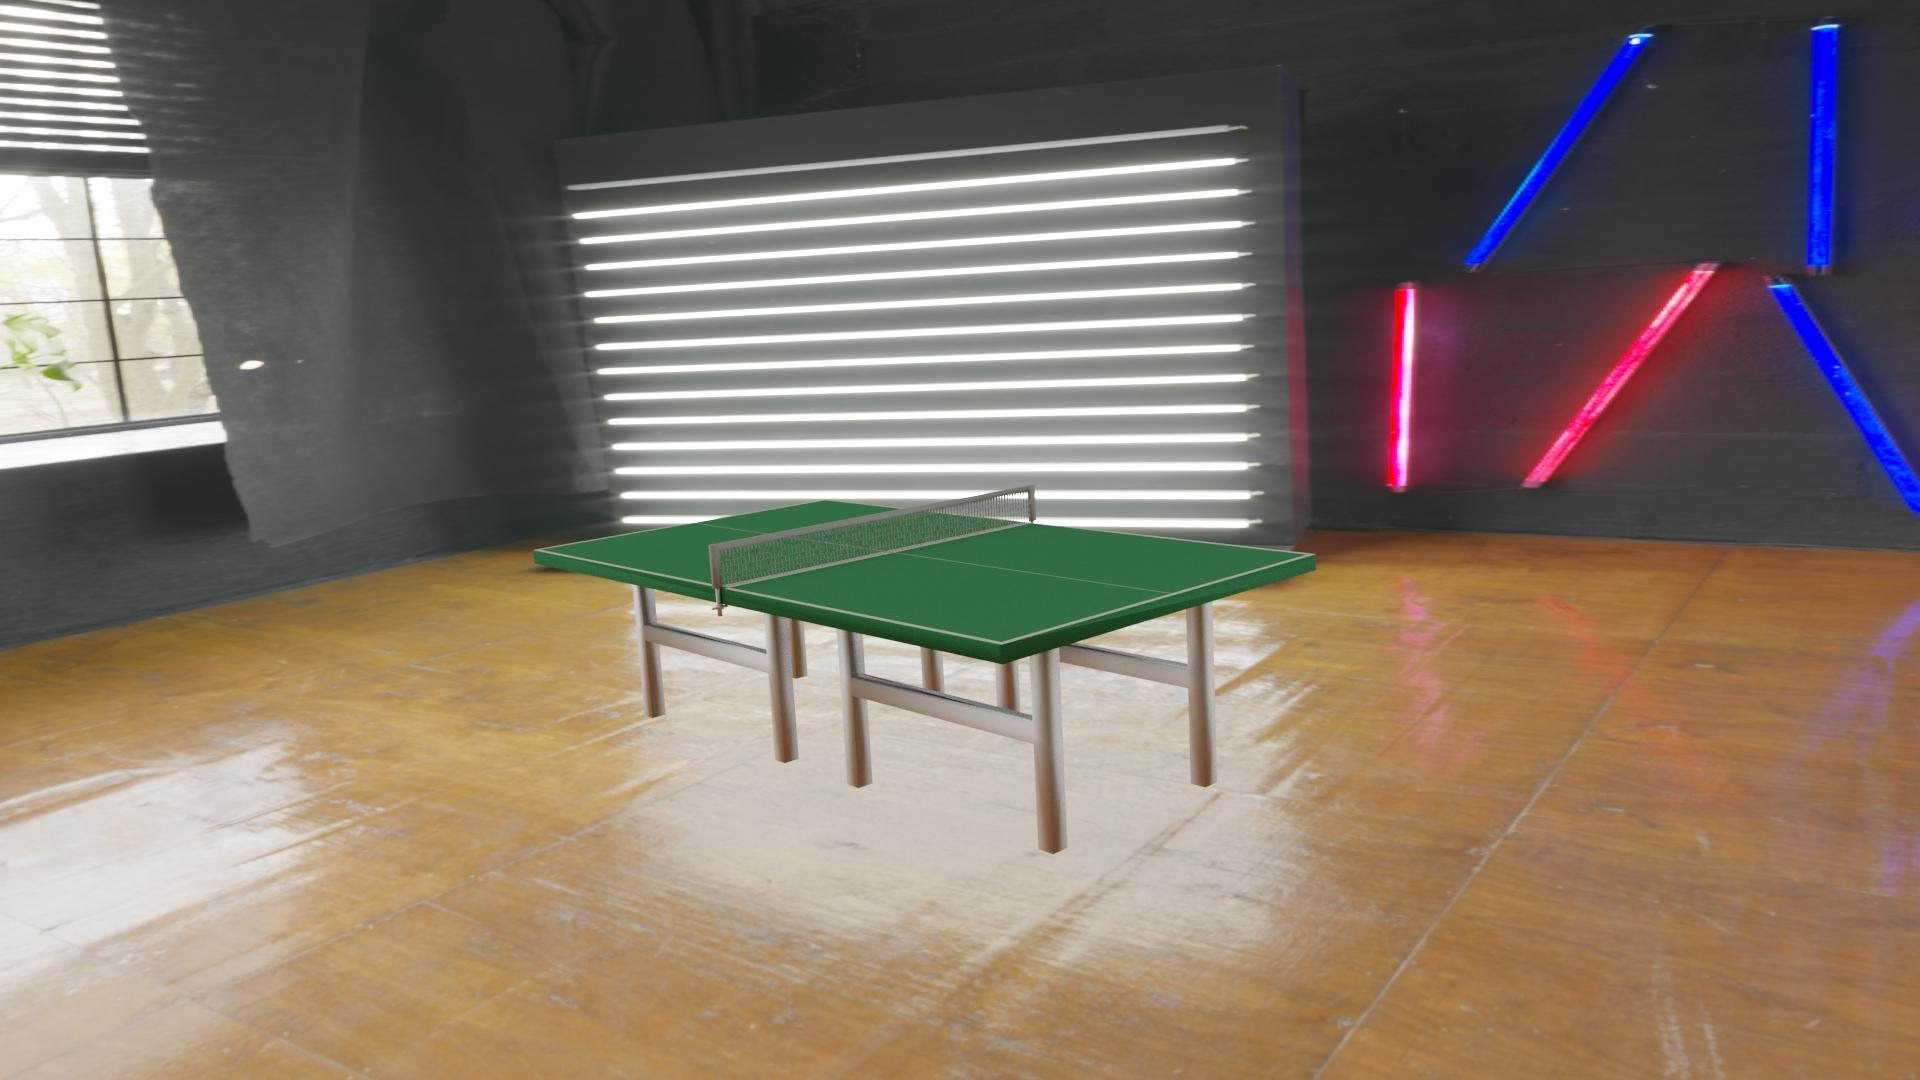table: (539, 500, 1308, 642)
